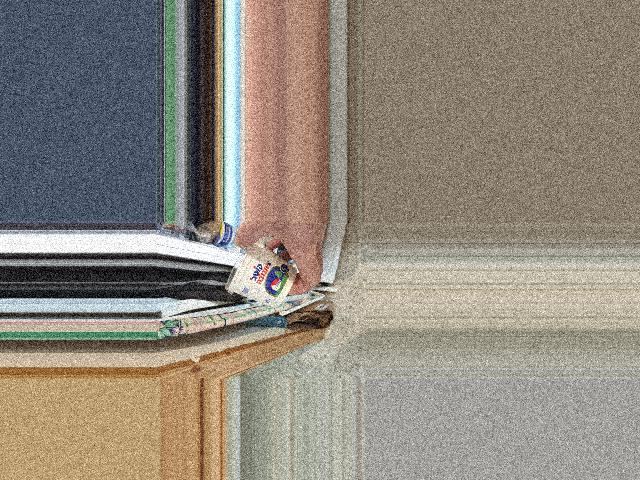cotage: (223, 245, 293, 306)
